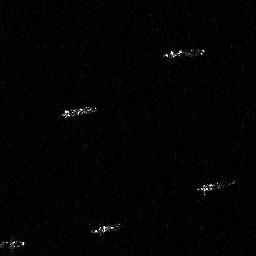ship: (194, 177, 239, 197), (162, 44, 205, 62), (89, 218, 124, 238), (60, 104, 99, 120), (1, 235, 28, 252)
